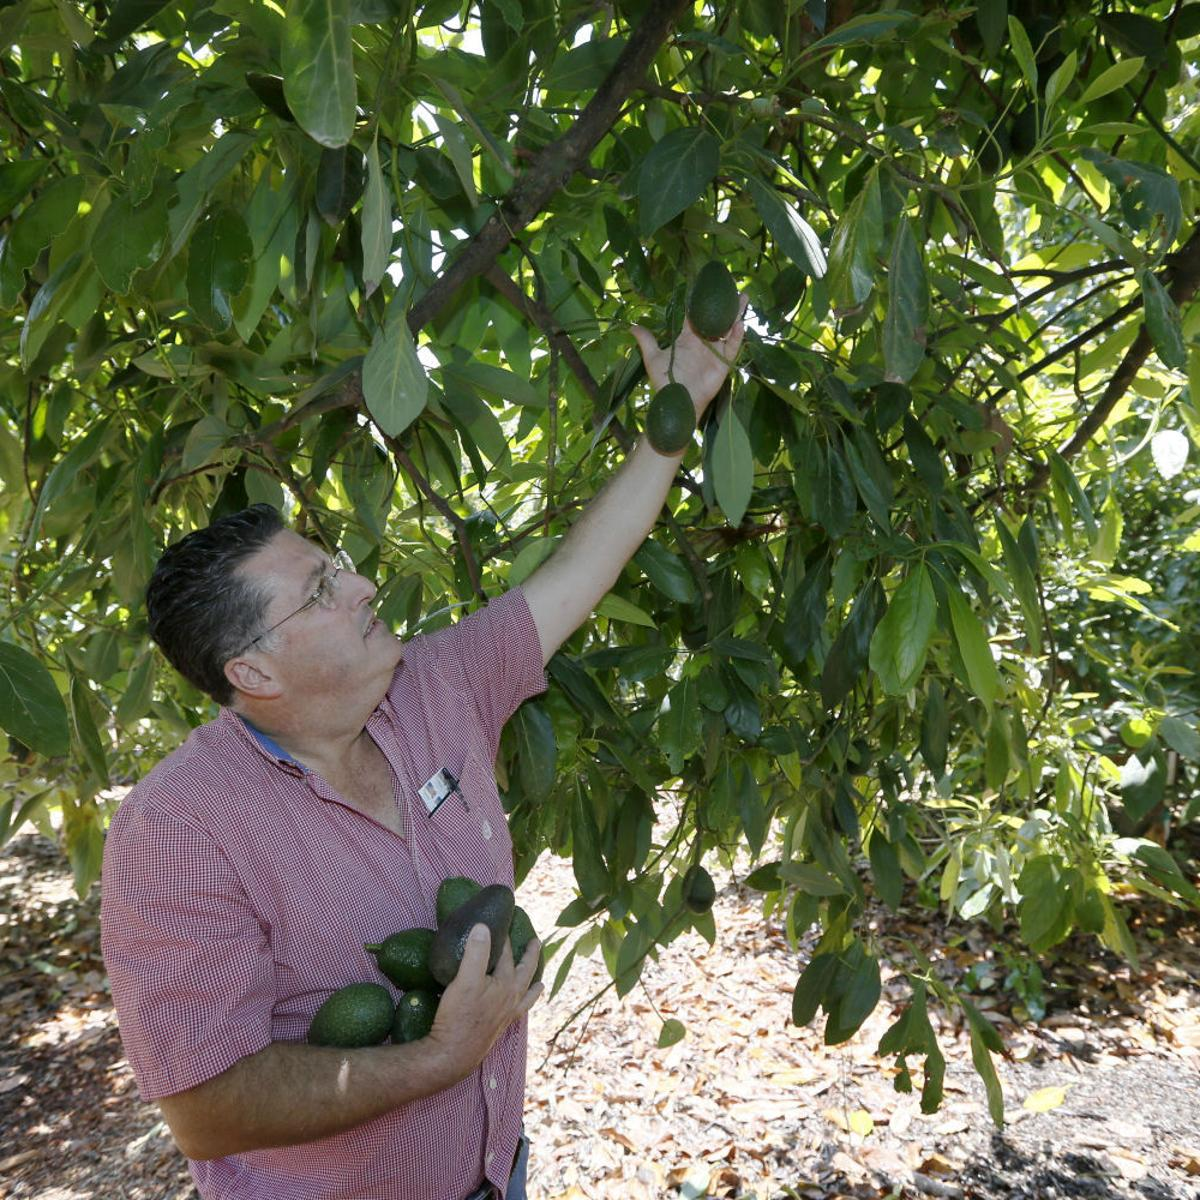fit_avocado: (435, 888, 520, 984)
unfit_avocado: (624, 362, 715, 465)
